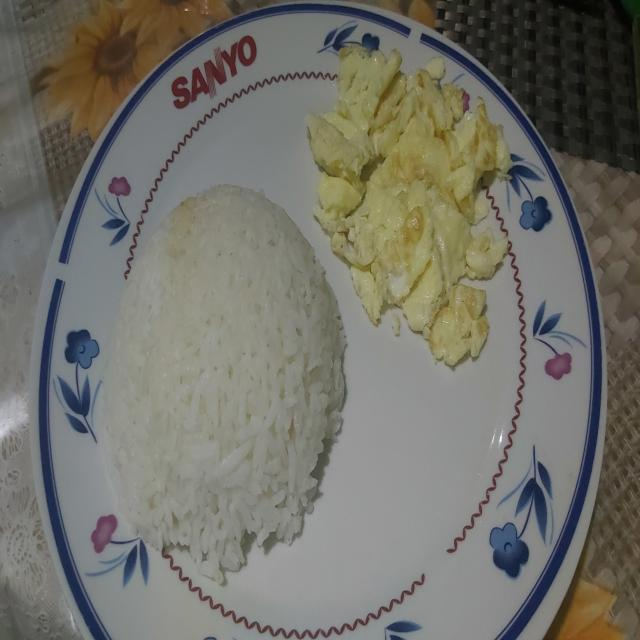Chicken -Chicken Inasal-: (100, 179, 345, 563)
